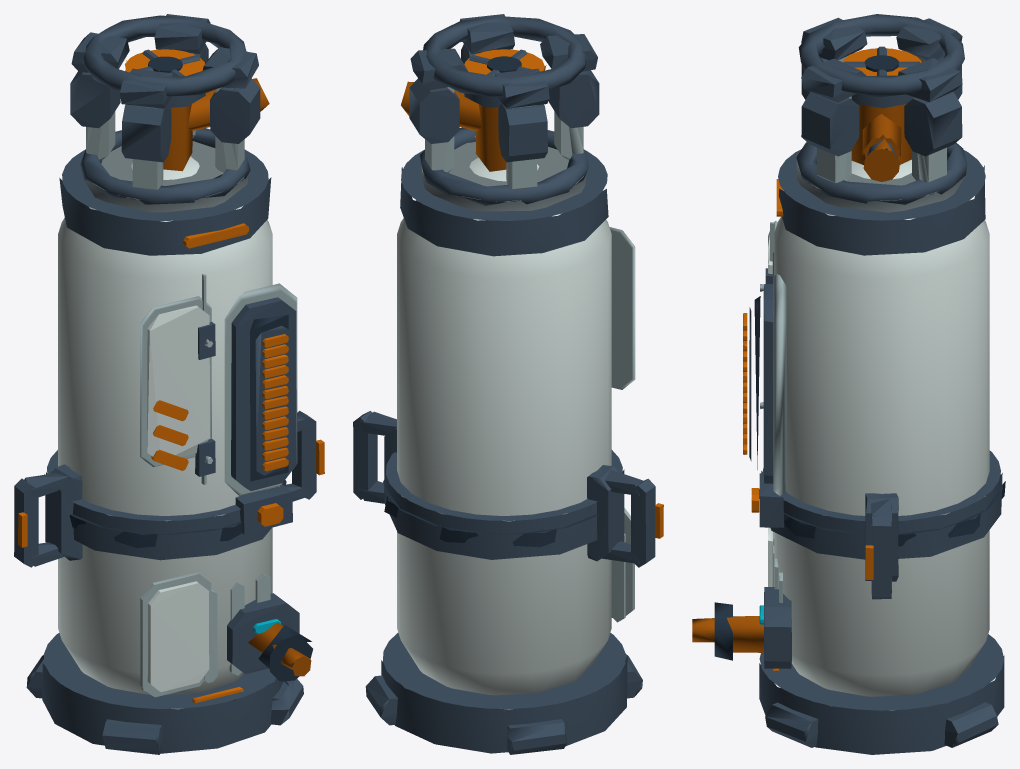
Rendered from bouteille-gaz.glb.
3 renders of one model, left to right at view 1: azimuth 30°, elevation 25°; view 2: azimuth 150°, elevation 25°; view 3: azimuth 270°, elevation 25°, orthographic.
Visible parts, largest first — view 1: corps__bleu_nuit, corps__gris_clair, corps__gris_clair3, corps__lum_orange, corps__bleu_nuit2, corps__gris_clair2, corps__orange_fonce, top_valve_assembly__lum_orange; view 2: corps__gris_clair, corps__bleu_nuit, corps__gris_clair3, corps__gris_clair2, corps__orange_fonce, corps__bleu_nuit2, top_valve_assembly__lum_orange; view 3: corps__gris_clair, corps__bleu_nuit, corps__gris_clair3, corps__orange_fonce, corps__bleu_nuit2, corps__gris_clair2, corps__lum_orange, top_valve_assembly__lum_orange.
Boxes of the visible parts, <box> form: corps__bleu_nuit: <box>14,14,316,754</box>; corps__gris_clair: <box>58,156,272,709</box>; corps__gris_clair3: <box>86,53,297,697</box>; corps__lum_orange: <box>18,223,324,703</box>; corps__bleu_nuit2: <box>44,314,312,704</box>; corps__gris_clair2: <box>82,141,248,463</box>; corps__orange_fonce: <box>163,78,311,676</box>; top_valve_assembly__lum_orange: <box>125,49,204,76</box>; corps__gris_clair: <box>397,157,611,709</box>; corps__bleu_nuit: <box>353,14,655,754</box>; corps__gris_clair3: <box>425,53,635,622</box>; corps__gris_clair2: <box>420,141,586,211</box>; corps__orange_fonce: <box>401,81,506,171</box>; corps__bleu_nuit2: <box>383,480,598,704</box>; top_valve_assembly__lum_orange: <box>464,49,546,74</box>; corps__gris_clair: <box>768,159,989,710</box>; corps__bleu_nuit: <box>749,14,1004,754</box>; corps__gris_clair3: <box>770,55,946,602</box>; corps__orange_fonce: <box>692,104,911,652</box>; corps__bleu_nuit2: <box>714,296,1005,707</box>; corps__gris_clair2: <box>760,161,966,409</box>; corps__lum_orange: <box>743,179,873,670</box>; top_valve_assembly__lum_orange: <box>842,48,921,75</box>.
Bounding box in the file's own units: 0.7232 × 1.5 × 0.6455.
